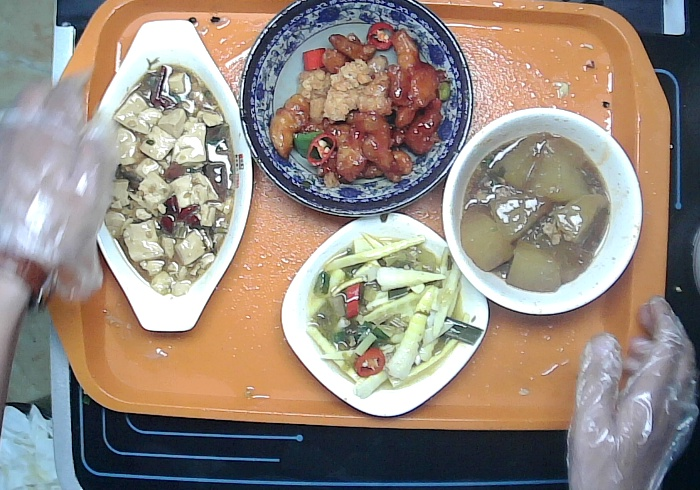ZNLD-Qing_Hua_Wan: (237, 1, 477, 224)
ZNLD-Si_Fang_Wan: (267, 209, 493, 419)
ZNLD-Tang_Wan: (433, 101, 646, 328)
ZNLD-Yu_Pan: (82, 16, 257, 340)
